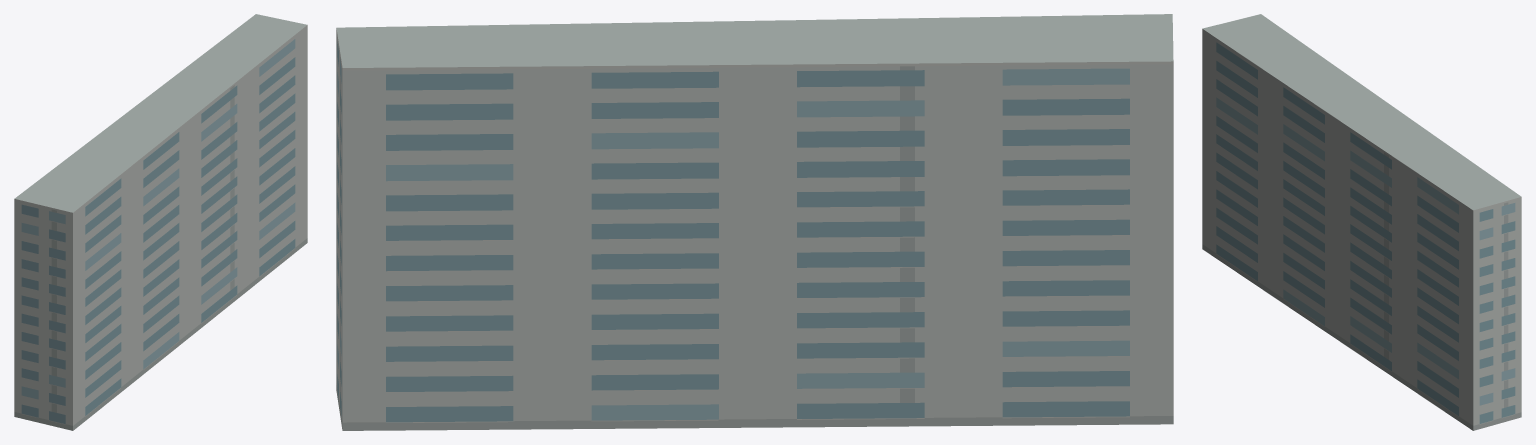
Rendered from residential-c5240059-f21f-4430-83de-1e0f37c18bda.glb.
3 views of the same model, side by side, from view 1: azimuth 30°, elevation 25°; view 2: azimuth 150°, elevation 25°; view 3: azimuth 270°, elevation 25° (orthographic). The views are drawn at different scales.
Visible parts, largest first — view 1: residential-c5240059-f21f-4430-83de-1e0f37c18bda.tmp; view 2: residential-c5240059-f21f-4430-83de-1e0f37c18bda.tmp; view 3: residential-c5240059-f21f-4430-83de-1e0f37c18bda.tmp.
Part boxes in pixels (<box>): residential-c5240059-f21f-4430-83de-1e0f37c18bda.tmp: <box>14,14,307,430</box>; residential-c5240059-f21f-4430-83de-1e0f37c18bda.tmp: <box>336,14,1173,430</box>; residential-c5240059-f21f-4430-83de-1e0f37c18bda.tmp: <box>1202,14,1521,430</box>.
Size of the model in its own units: 61.14 by 32 by 42.03.
